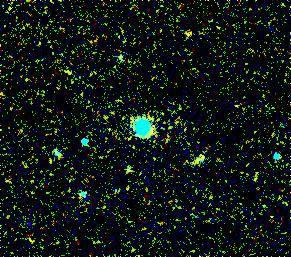star: (173, 17, 203, 47)
